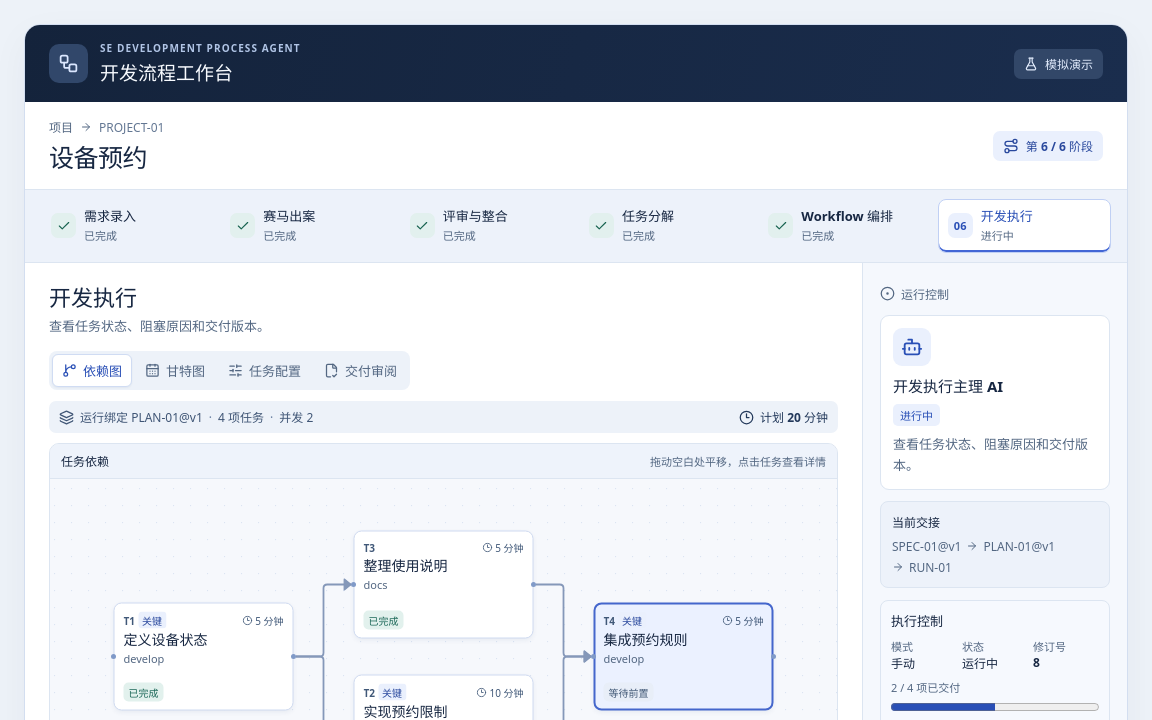
Scenario: 工作台 › 浏览历史和后续阶段时保留示例项目的实际进度
This screenshot has width=1152, height=720.
Click the button "交付审阅" at (360, 371), box [314,354,407,387]
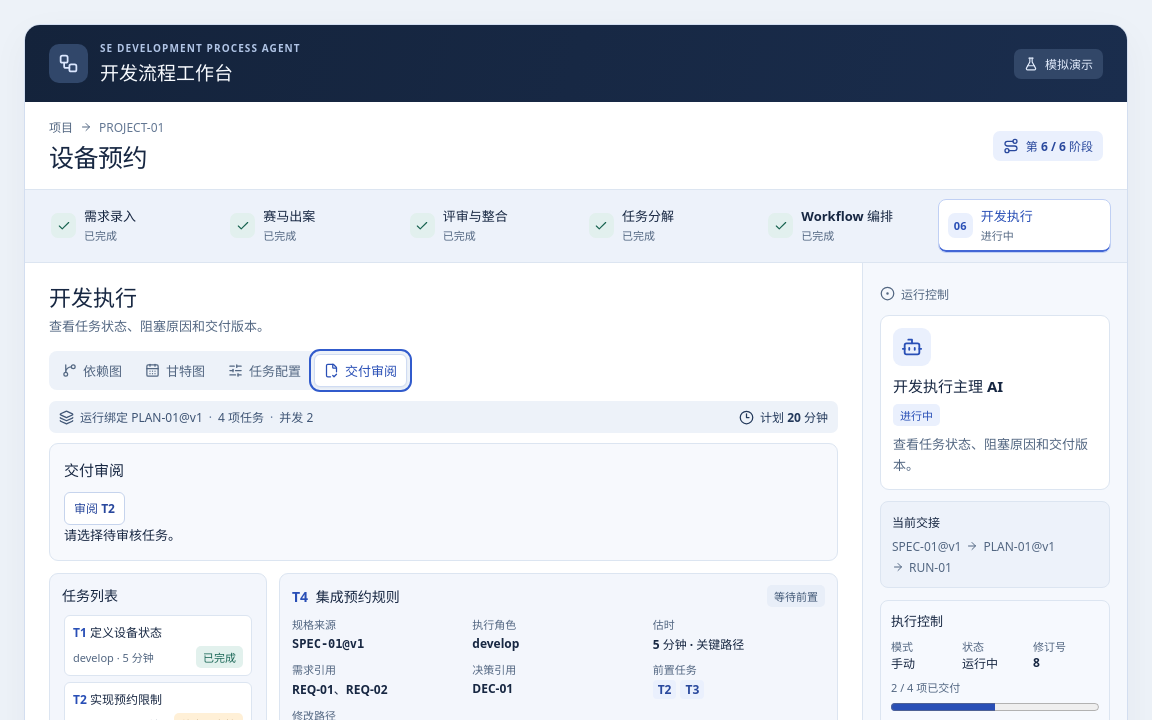
Expected: the text "第 6 / 6 阶段" is shown, [993,131,1103,161]
Result: the heading "交付审阅" is shown at [64,460,124,480]
Click the button "Workflow 编排 已完成" at (845, 226), box [758,199,932,253]
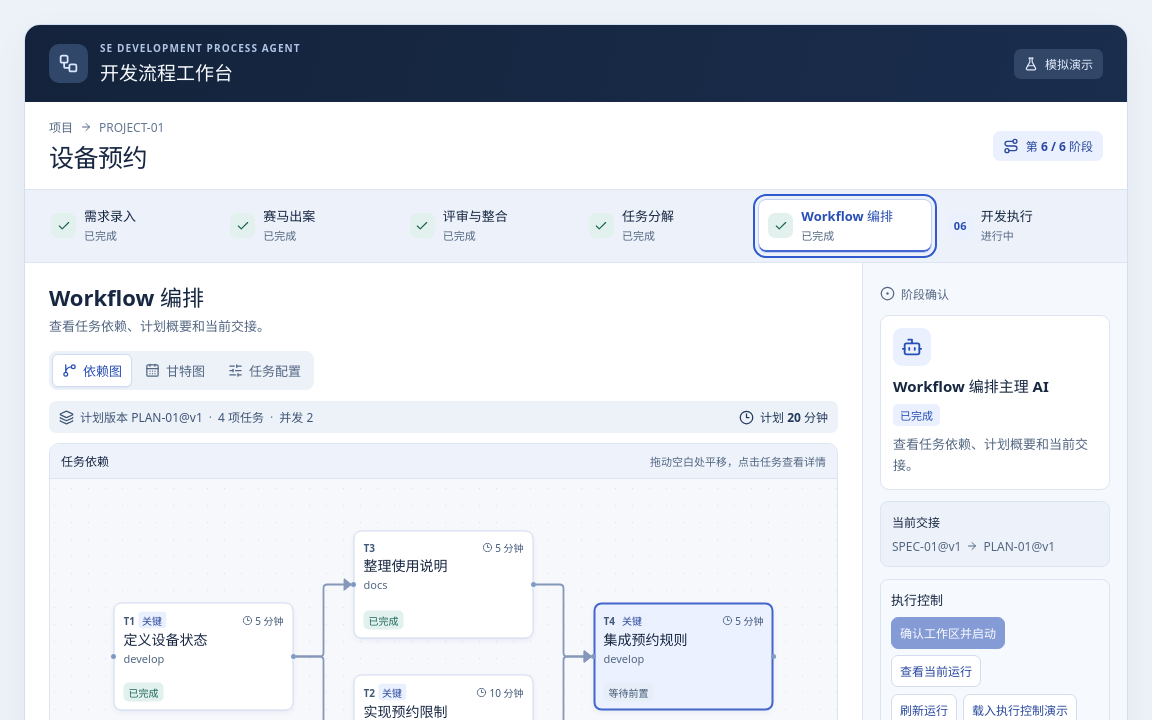
Expected: the text "第 6 / 6 阶段" is shown, [993,131,1103,161]
Result: the button "确认工作区并启动" is disabled at [891,616,1005,648]
Click the button "需求录入 已完成" at (128, 226), box [41,199,214,253]
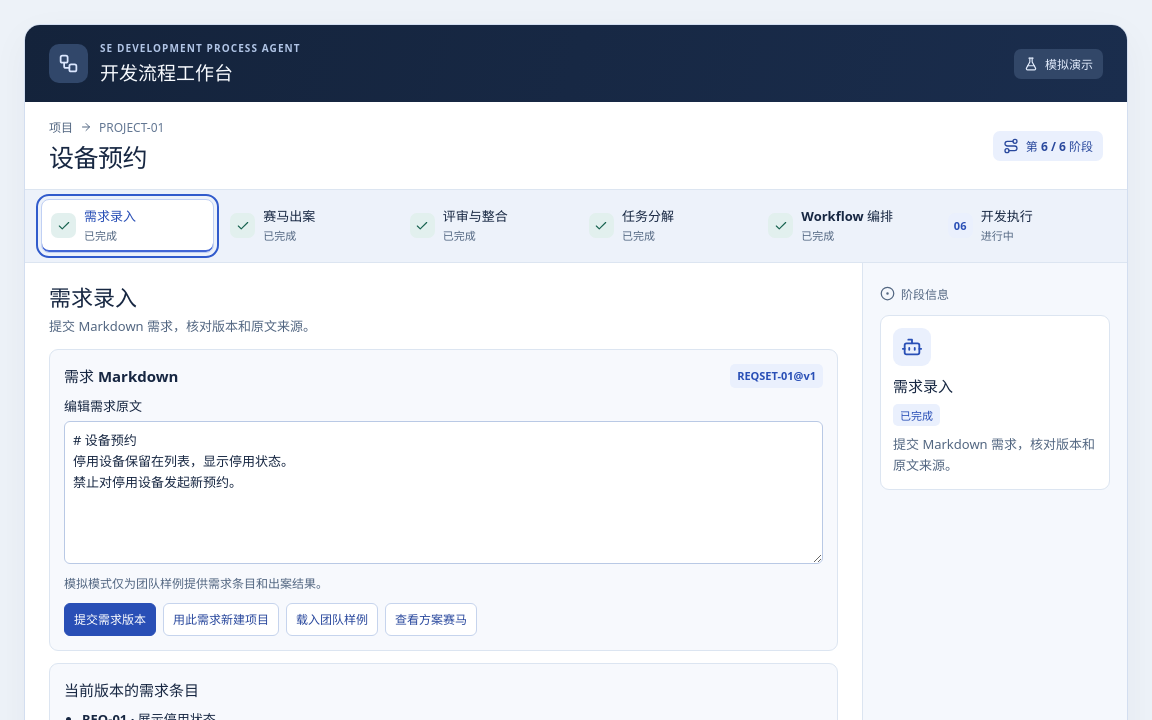
Expected: the button "交付审阅" is not shown
Result: the text box labelled "编辑需求原文" is shown at [64,421,823,564]
